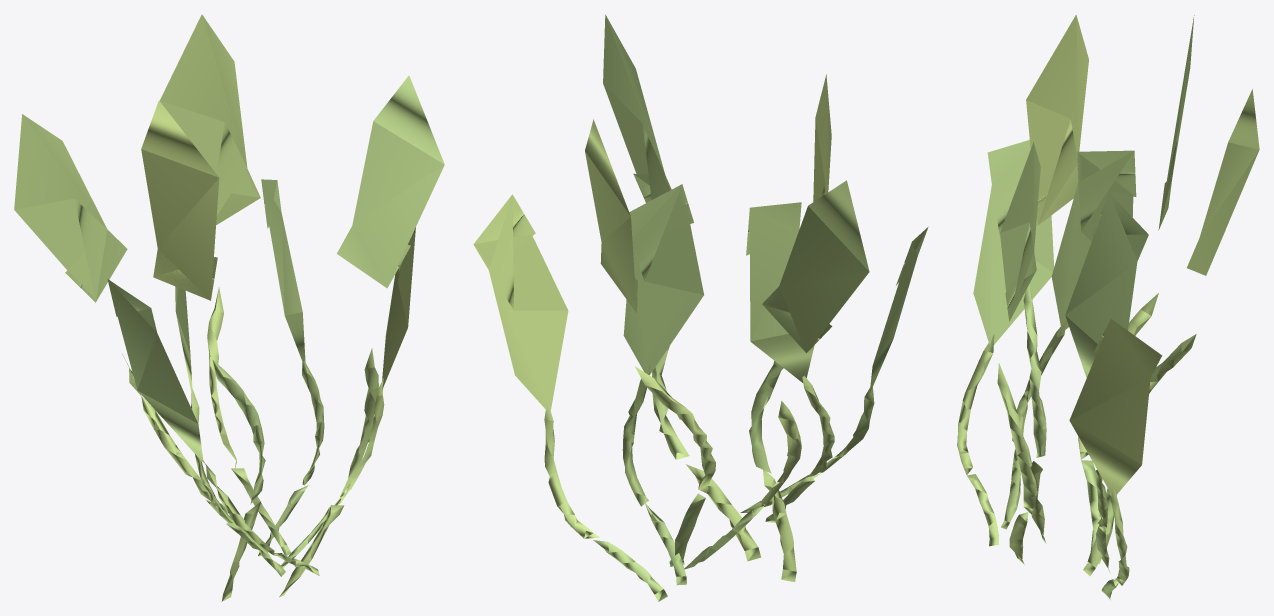
3 renders of one model, left to right at view 1: azimuth 30°, elevation 25°; view 2: azimuth 150°, elevation 25°; view 3: azimuth 270°, elevation 25°, orthographic. The views are drawn at different scales.
Parts seen in each view (by area): view 1: amazon-sword; view 2: amazon-sword; view 3: amazon-sword.
Part boxes in pixels (box(x1,y1,x2,y2)): amazon-sword: box(14, 14, 444, 601); amazon-sword: box(473, 14, 928, 601); amazon-sword: box(957, 15, 1259, 600).
Bounding box in the file's own units: 0.2314 × 0.3 × 0.1584.
